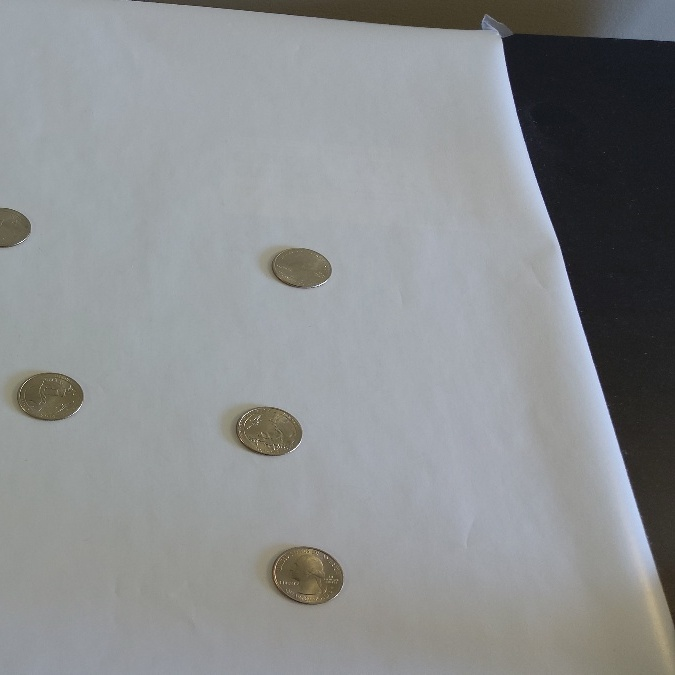coin_quarter: (265, 533, 351, 614), (9, 361, 93, 429), (228, 399, 308, 462), (264, 240, 344, 300)
